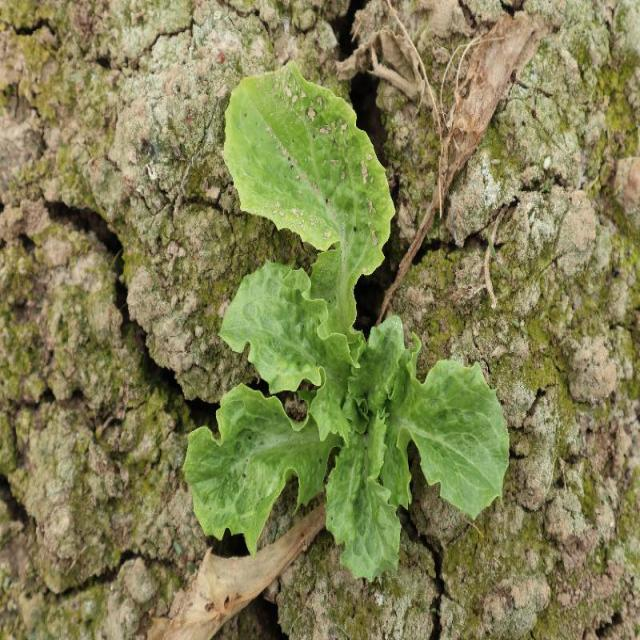crop: (186, 64, 511, 578)
